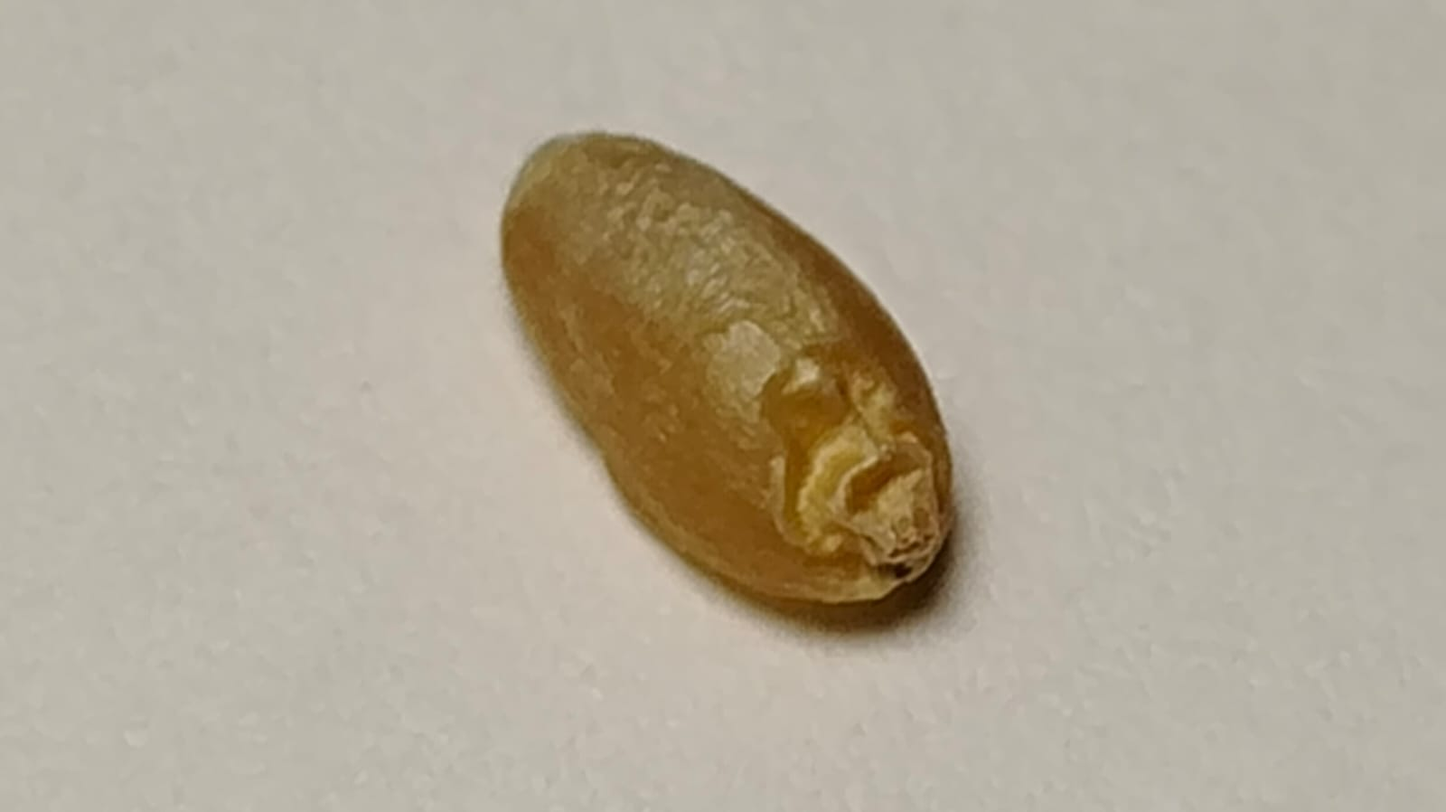healthy: (502, 133, 948, 601)
